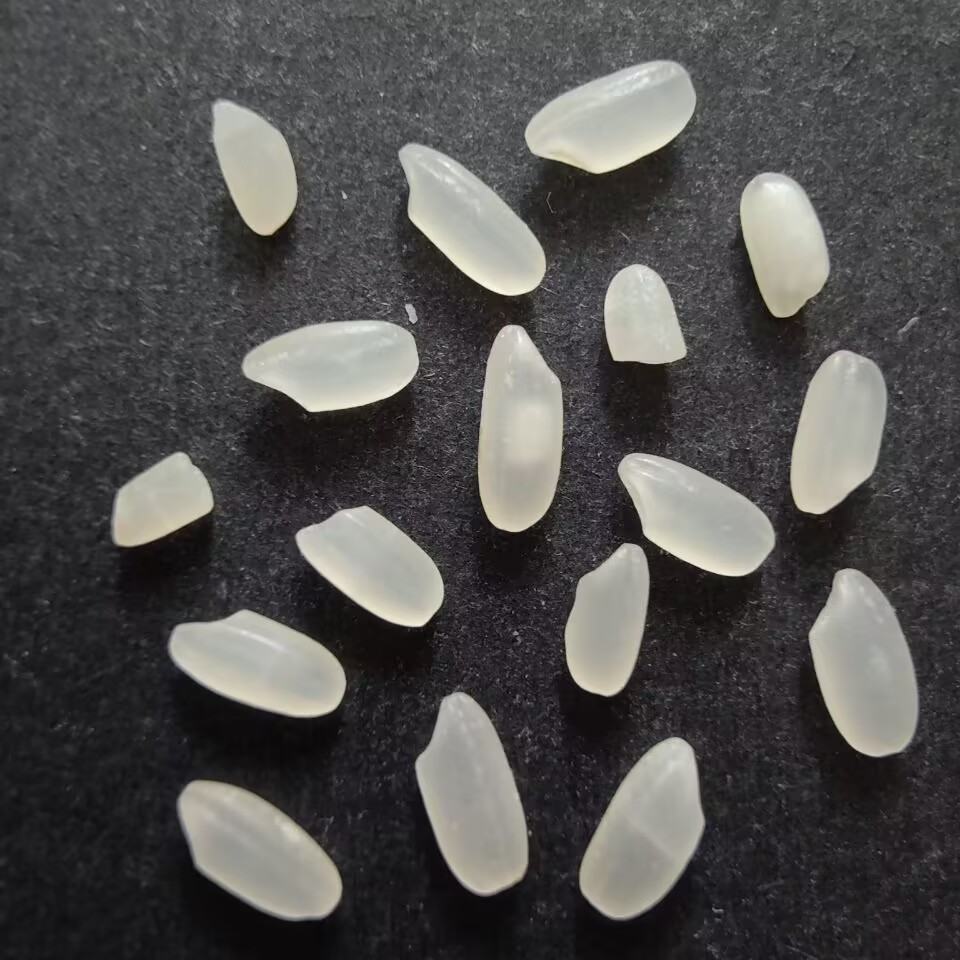broken: (106, 447, 215, 552), (595, 263, 688, 368)
rice: (573, 732, 706, 924), (407, 690, 530, 897), (174, 777, 348, 923), (394, 140, 549, 298), (803, 562, 923, 761), (516, 54, 696, 178), (164, 605, 349, 723), (613, 450, 778, 580), (289, 504, 449, 635), (472, 317, 567, 533), (237, 315, 422, 417), (785, 344, 890, 514), (736, 169, 834, 320), (560, 539, 650, 697), (208, 96, 303, 239)
